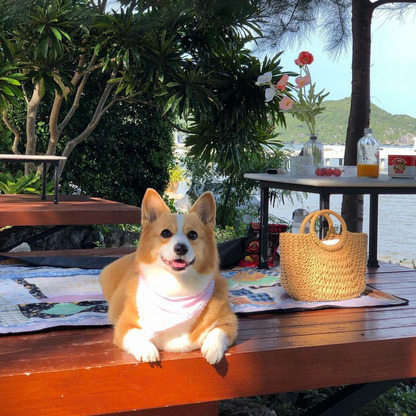Corgi: (89, 171, 255, 373)
